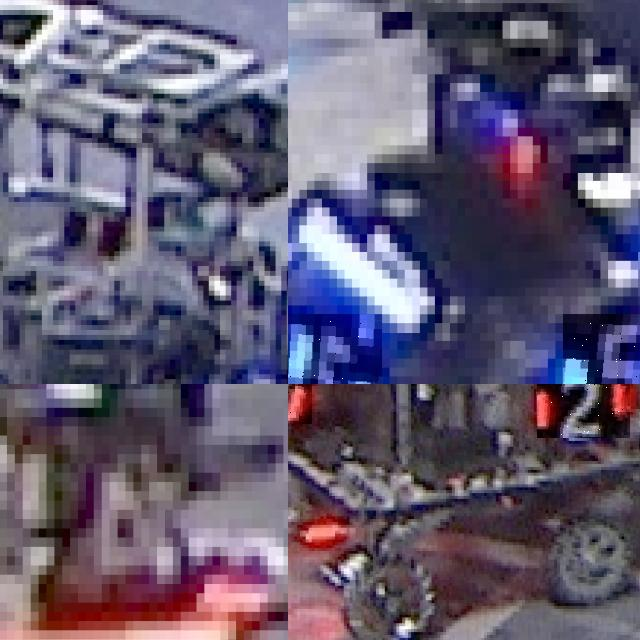B5: (288, 314, 382, 384), (563, 314, 640, 384)
R2: (536, 384, 630, 438)
